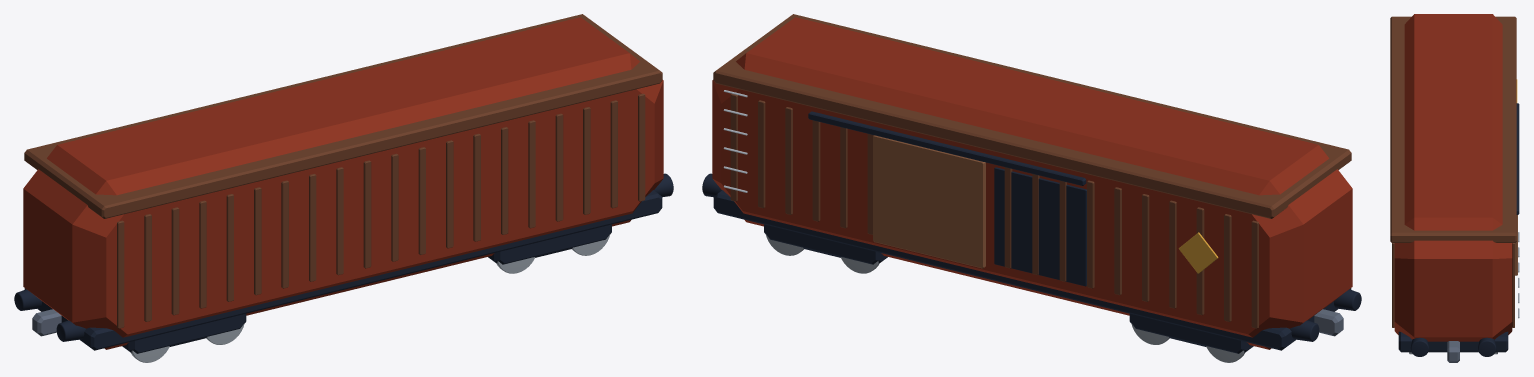
Rendered from switchyard_dress_railcar.glb.
3 renders of one model, left to right at view 1: azimuth 30°, elevation 25°; view 2: azimuth 150°, elevation 25°; view 3: azimuth 270°, elevation 25°, orthographic. The views are drawn at different scales.
Visible parts, largest first — view 1: car_body, car_roof, car_frame, car_bogie-4, car_bogie4, car_corr21, car_corr161, car_corr91, car_corr51, car_corr131, car_corr31, car_corr41 (+14 smaller); view 2: car_body, car_roof, car_door, car_door_opening, car_frame, car_door_rail, car_bogie-4, car_bogie4, car_corr16-1, car_placard, car_corr5-1, car_corr3-1 (+14 smaller); view 3: car_body, car_roof, car_frame, car_door_rail, car_buffer1, car_buffer_b1, car_coupler1, car_corr19-1, car_corr191, car_door.
Boxes of the visible parts, x1,y1,x2,y2 form: car_body: [23, 17, 663, 349]; car_roof: [24, 14, 662, 218]; car_frame: [24, 190, 662, 350]; car_bogie-4: [122, 314, 246, 353]; car_bogie4: [488, 224, 611, 264]; car_corr21: [171, 207, 179, 315]; car_corr161: [555, 113, 563, 221]; car_corr91: [363, 160, 371, 268]; car_corr51: [254, 187, 261, 295]; car_corr131: [473, 133, 480, 241]; car_corr31: [199, 200, 206, 308]; car_corr41: [226, 194, 233, 301]; car_body: [712, 17, 1352, 349]; car_roof: [713, 14, 1351, 218]; car_door: [873, 135, 985, 268]; car_door_opening: [994, 167, 1086, 286]; car_frame: [713, 190, 1351, 350]; car_door_rail: [808, 111, 1086, 185]; car_bogie-4: [1129, 314, 1253, 353]; car_bogie4: [764, 224, 887, 264]; car_corr16-1: [812, 120, 820, 221]; car_placard: [1178, 232, 1218, 273]; car_corr5-1: [1114, 187, 1121, 295]; car_corr3-1: [1169, 200, 1176, 308]; car_body: [1394, 14, 1512, 341]; car_roof: [1390, 16, 1516, 242]; car_frame: [1398, 331, 1508, 352]; car_door_rail: [1516, 103, 1519, 214]; car_buffer1: [1410, 337, 1428, 356]; car_buffer_b1: [1478, 337, 1496, 356]; car_coupler1: [1447, 341, 1459, 362]; car_corr19-1: [1512, 243, 1514, 327]; car_corr191: [1392, 243, 1394, 327]; car_door: [1515, 215, 1517, 275].
Bounding box in the file's own units: 13.51 × 3.97 × 3.07.
